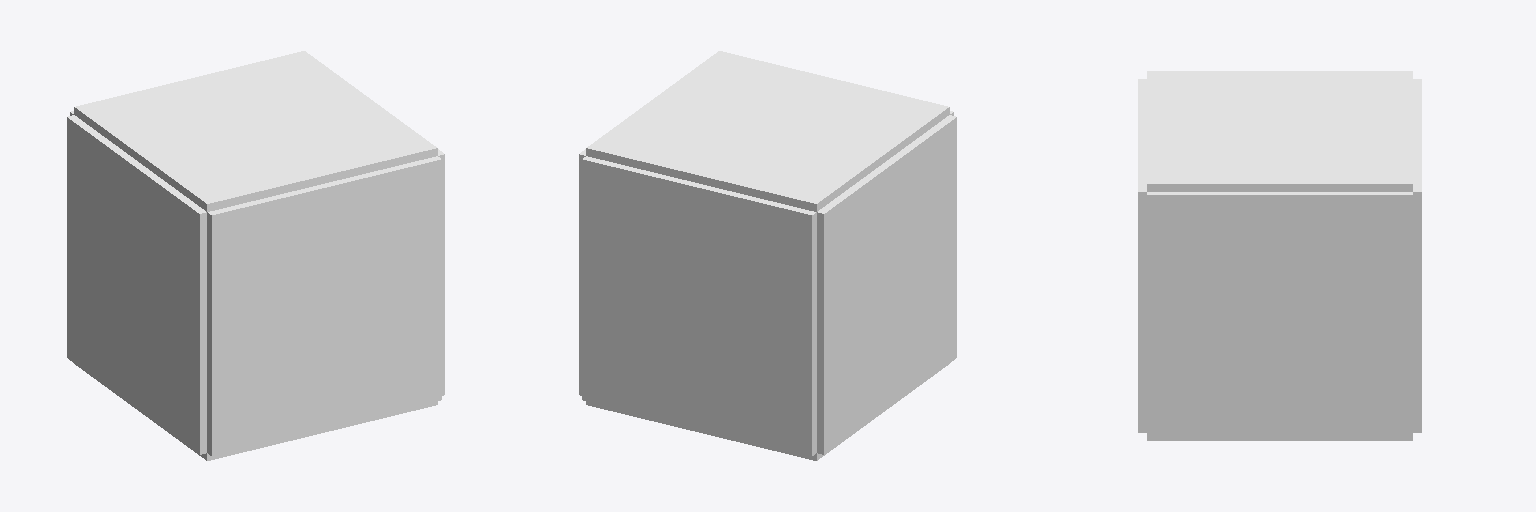
The model's file is zombie-11-head.obj.
The picture shows the model from 3 angles: view 1: azimuth 30°, elevation 25°; view 2: azimuth 150°, elevation 25°; view 3: azimuth 270°, elevation 25°; orthographic projection.
Parts seen in each view (by area): view 1: head; view 2: head; view 3: head.
Boxes of the visible parts, x1,y1,x2,y2 form: head: [67, 51, 444, 460]; head: [579, 51, 956, 460]; head: [1138, 71, 1421, 440].
Size of the model in its own units: 3.2 by 3.2 by 3.2.